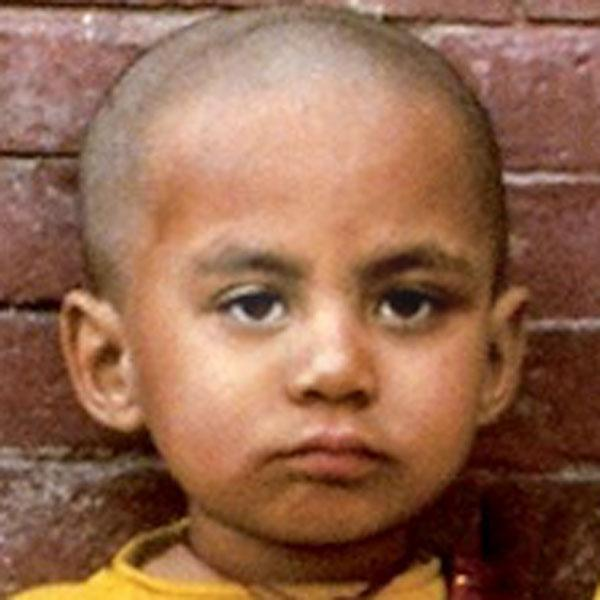Eyes: (358, 271, 457, 338), (206, 273, 297, 337)
